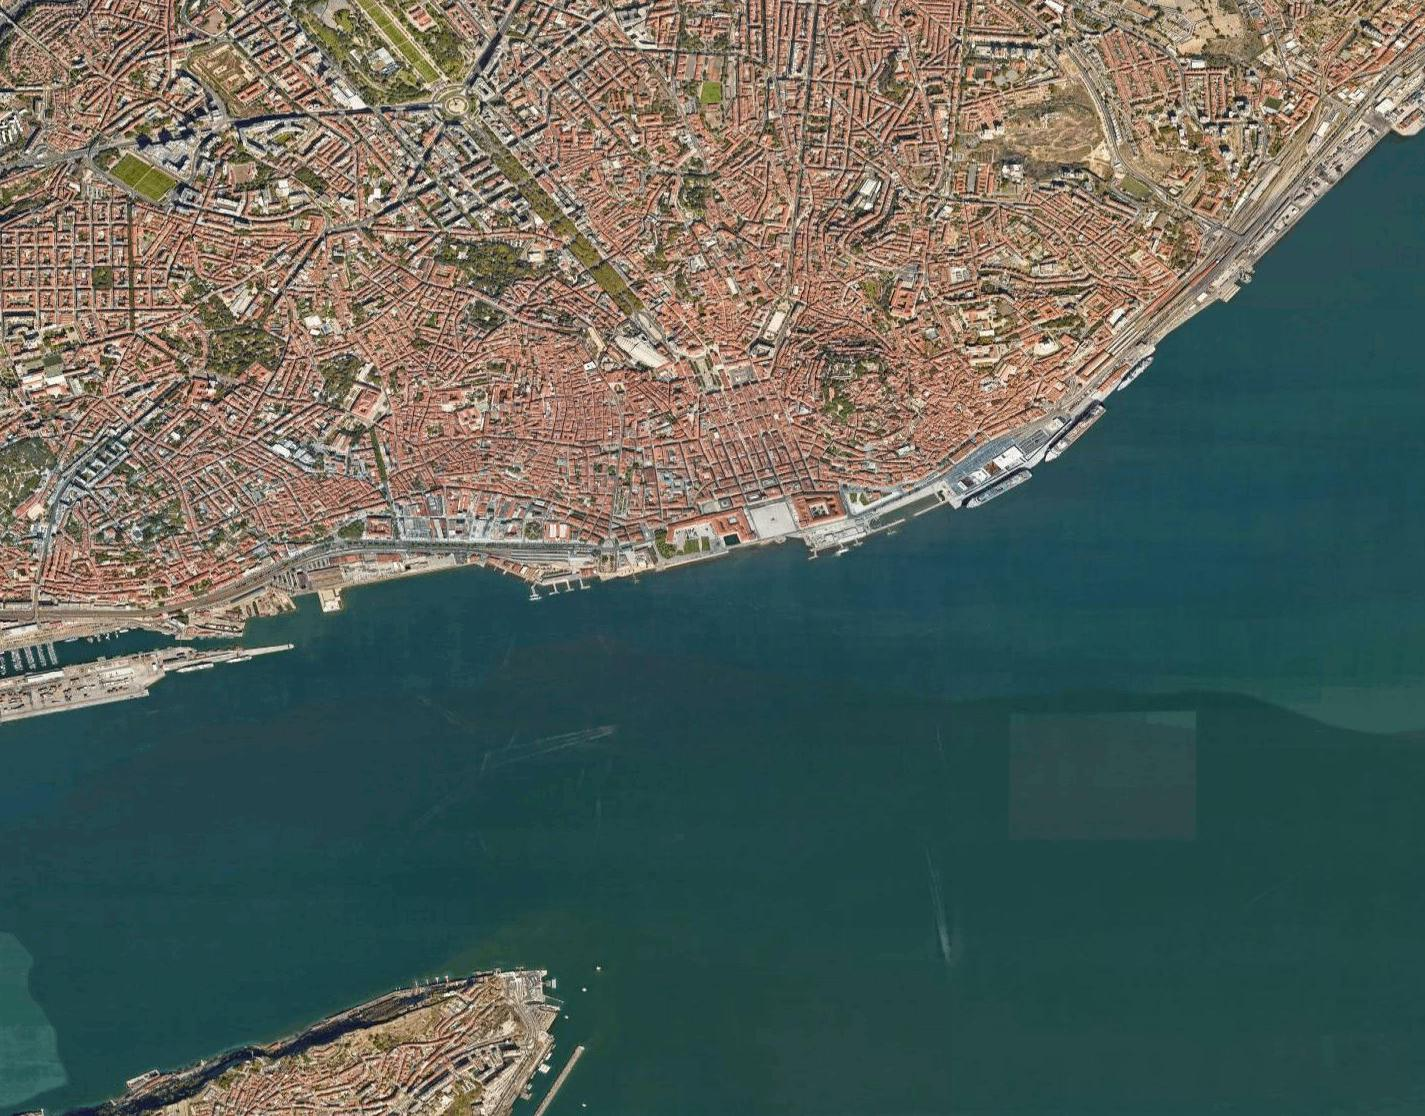harbor: (1, 535, 621, 734), (783, 407, 1106, 581)
train_station: (599, 325, 682, 379)
